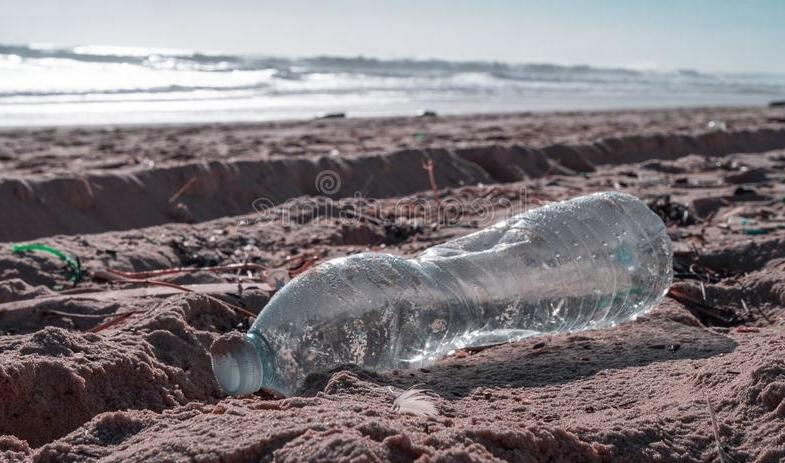Plastic: (207, 183, 694, 425)
